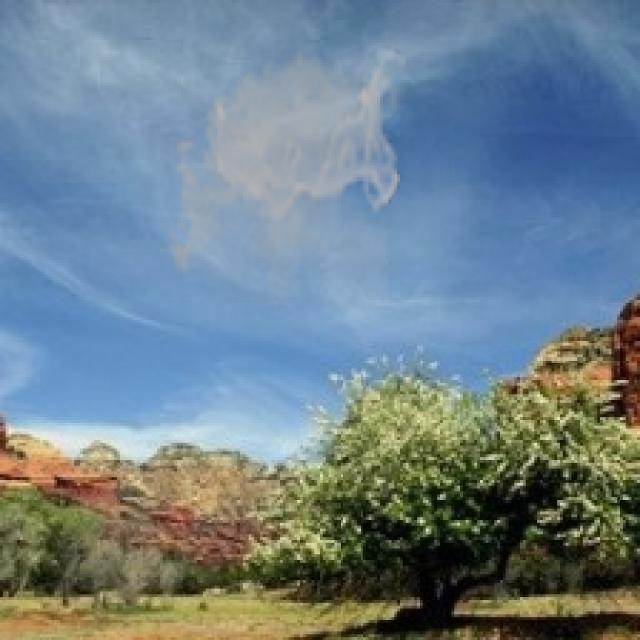smoke: (160, 40, 406, 306)
